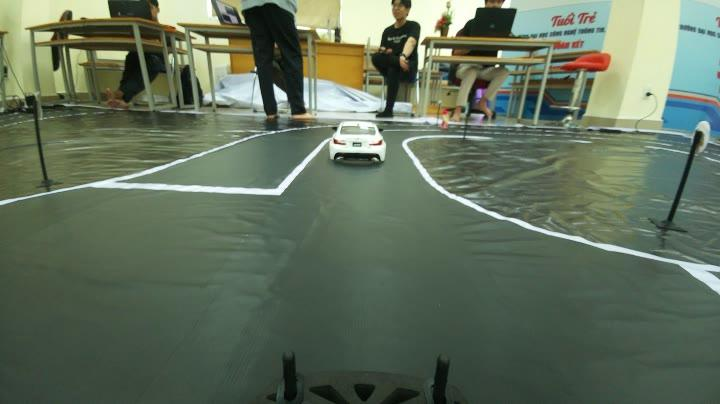car: (325, 107, 387, 159)
